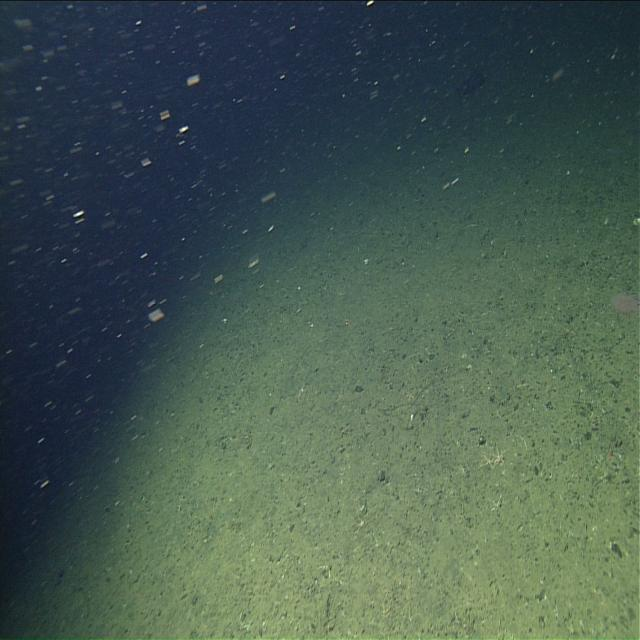Brittle Star: (491, 443, 510, 472)
Not Brittle Star: (608, 287, 640, 320)
